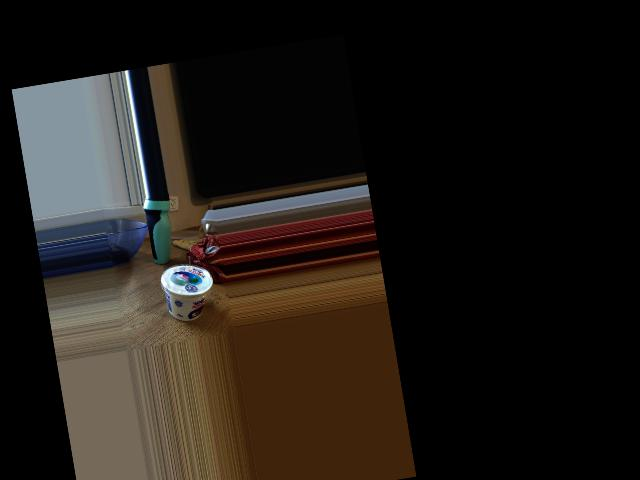cotage: (155, 257, 210, 327)
